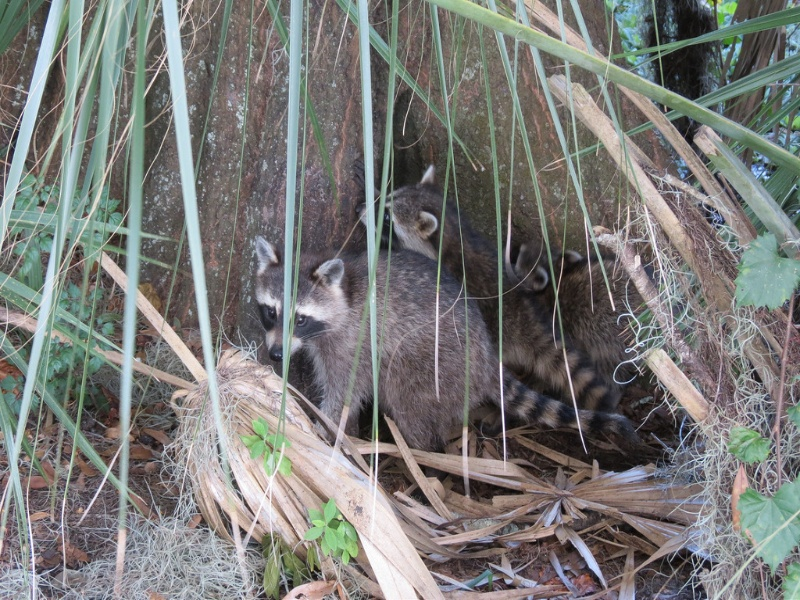raccoon: (249, 235, 631, 479), (351, 166, 636, 442)
